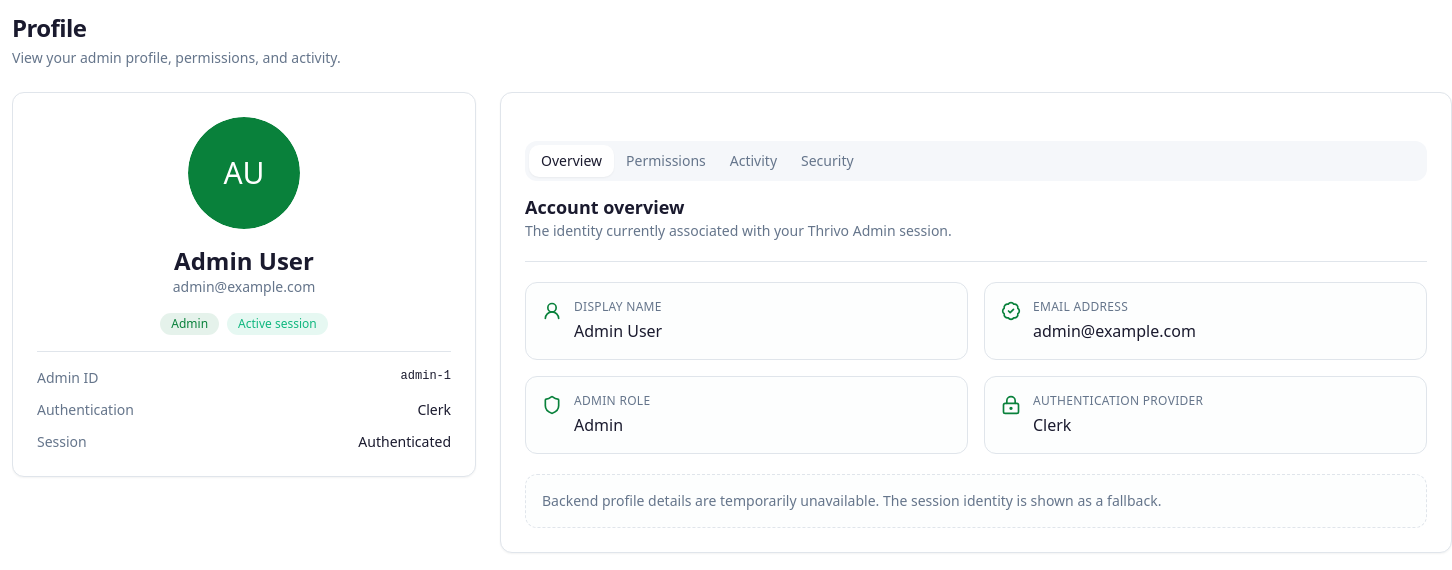
Test case: AdminProfileSection › shows a forbidden state when audit activity is unavailable to the admin
The image size is (1452, 570).
Press the mouse on the tab "Activity" at (753, 161), box [718,145,789,177]
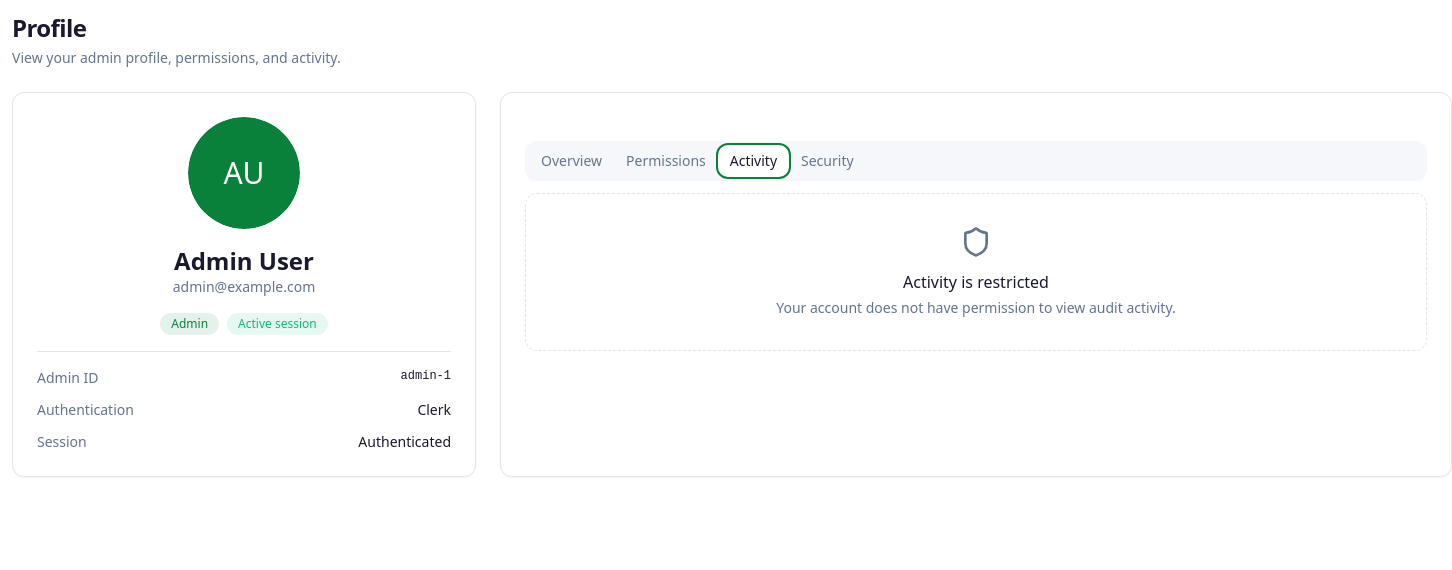
Now the heading "Activity is restricted" is shown, box [903,271,1049,293]
